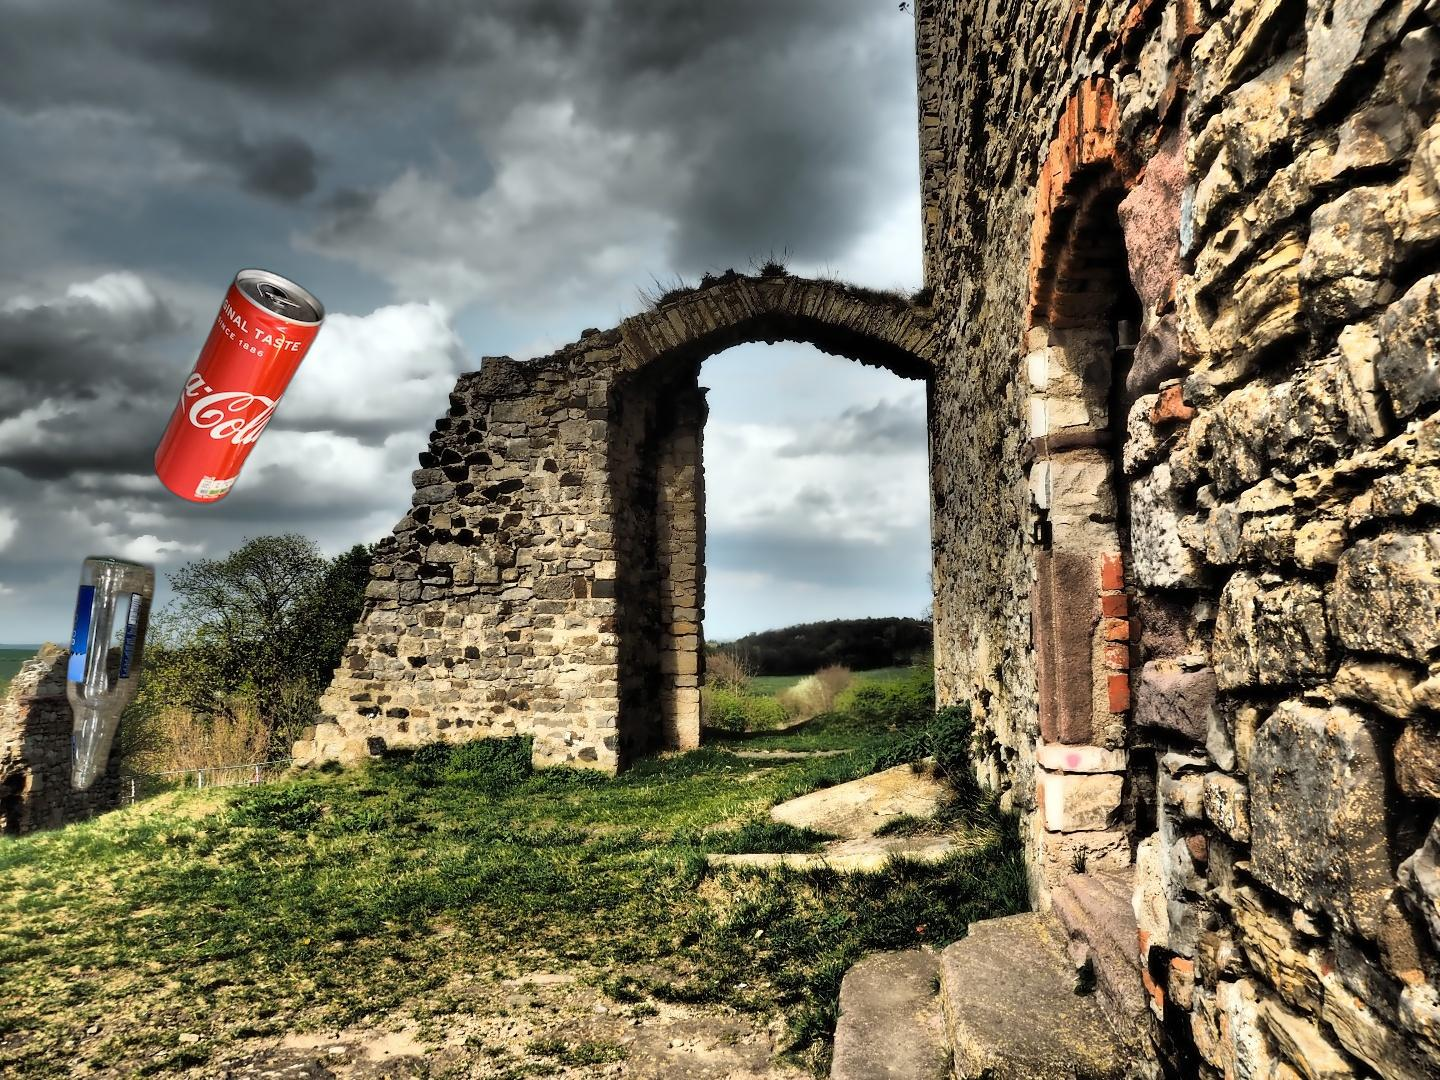glass: (62, 317, 254, 798)
metal-cans: (149, 263, 329, 511)
